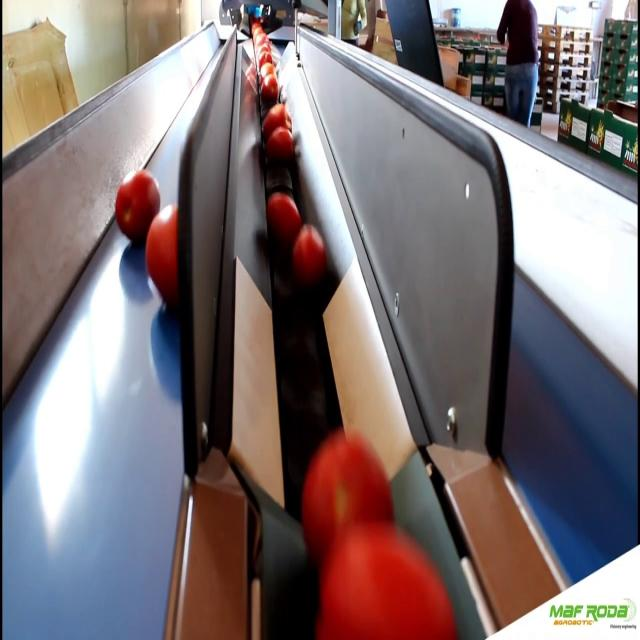Tomato: (318, 529, 458, 640), (301, 427, 394, 555), (115, 168, 161, 245), (147, 203, 177, 310), (266, 191, 300, 238), (295, 227, 324, 276), (262, 105, 293, 136), (266, 130, 293, 161), (262, 72, 281, 106), (256, 52, 272, 62), (256, 48, 270, 52)
